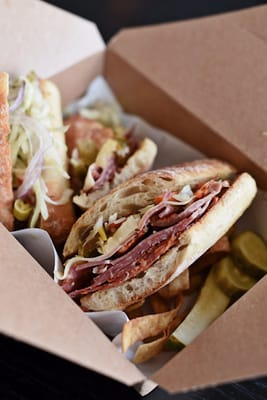soup: (60, 158, 257, 315)
